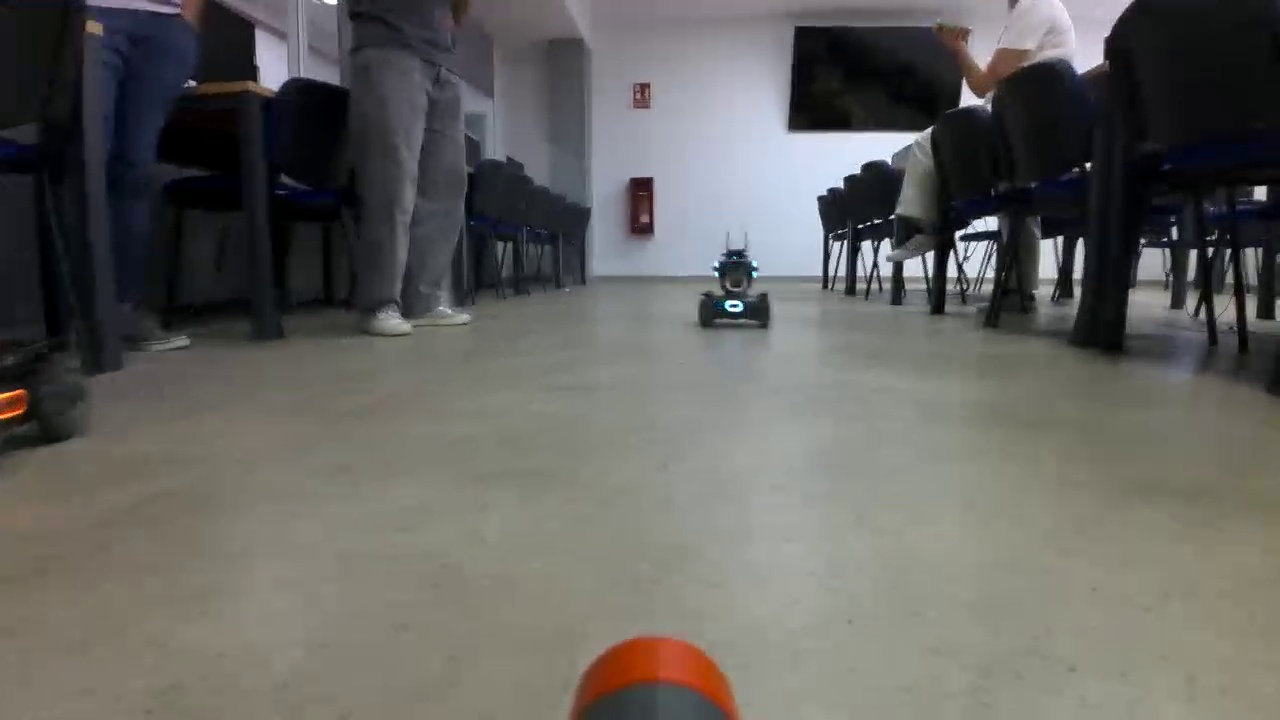robot: (698, 247, 777, 348), (1, 345, 80, 445)
